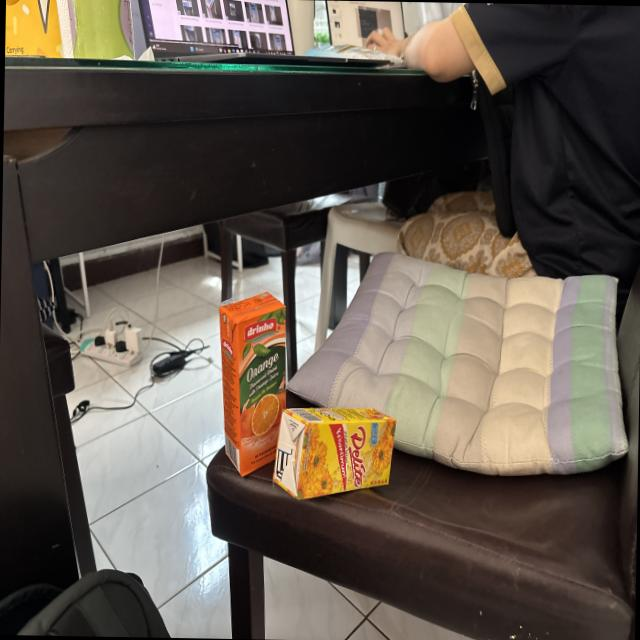drink_carton: (212, 286, 296, 482), (267, 400, 398, 508)
